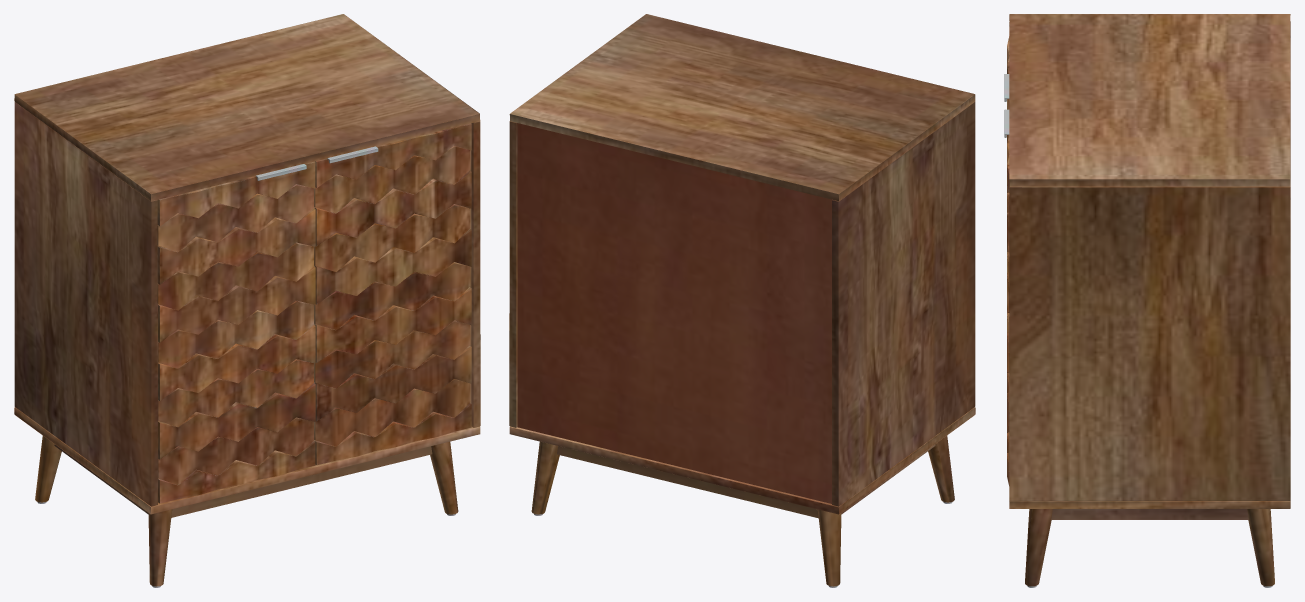
3 renders of one model, left to right at view 1: azimuth 30°, elevation 25°; view 2: azimuth 150°, elevation 25°; view 3: azimuth 270°, elevation 25°, orthographic. The views are drawn at different scales.
Visible parts, largest first — view 1: visual_RootNode; view 2: visual_RootNode; view 3: visual_RootNode.
Boxes of the visible parts, box(x1,y1,x2,y2) form: visual_RootNode: box(14, 14, 480, 587); visual_RootNode: box(509, 14, 975, 587); visual_RootNode: box(1004, 14, 1290, 587).
Size of the model in its own units: 0.6465 by 0.4728 by 0.7575.
1 material, 1 textured.
